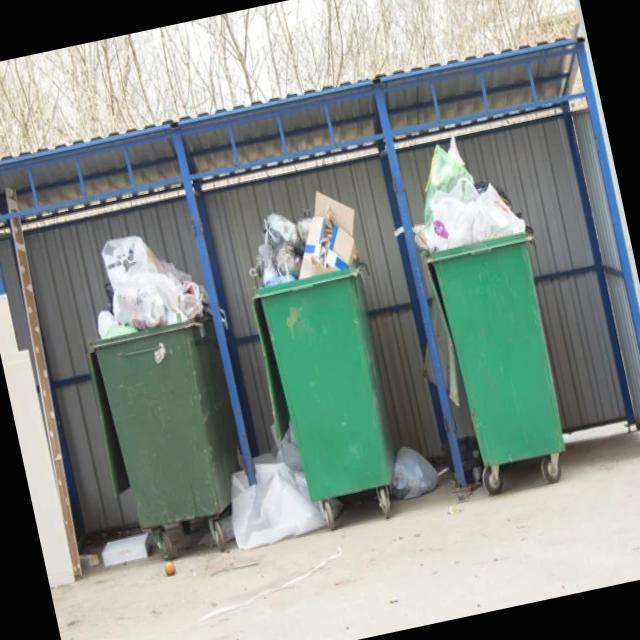garbage: (52, 130, 576, 582)
